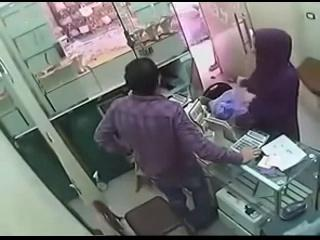Normal: (94, 57, 262, 230), (235, 28, 300, 142), (92, 196, 190, 236), (228, 128, 270, 154)
